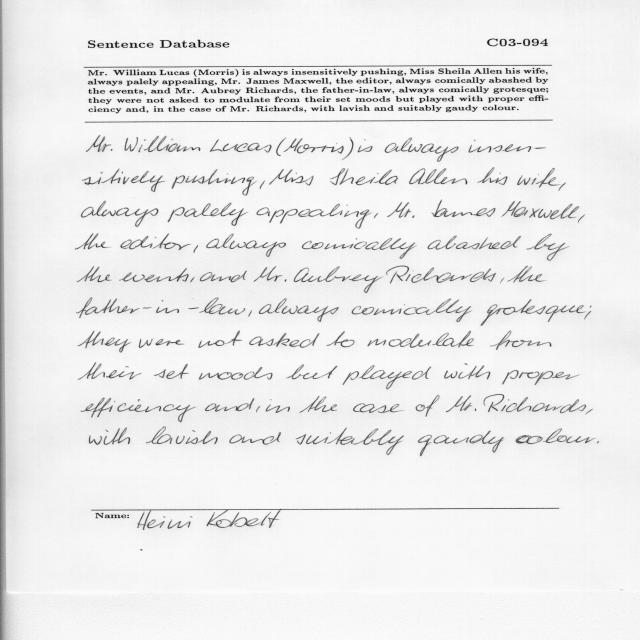word: (77, 298, 245, 318), (294, 266, 410, 293), (481, 299, 592, 326), (296, 428, 404, 455), (352, 298, 472, 322), (257, 204, 372, 229), (81, 397, 196, 422), (302, 238, 416, 259), (172, 169, 257, 196), (418, 431, 504, 457), (343, 366, 431, 390), (82, 201, 159, 227), (82, 168, 165, 192), (484, 395, 586, 414), (259, 298, 339, 322), (168, 203, 248, 226), (206, 234, 286, 257), (367, 331, 474, 348), (284, 137, 353, 160), (502, 201, 579, 219), (411, 267, 496, 283), (428, 236, 521, 250), (146, 427, 218, 444), (125, 136, 201, 152), (516, 429, 596, 444), (526, 234, 570, 261), (490, 331, 552, 350), (502, 370, 580, 385), (330, 168, 398, 185), (121, 234, 191, 250), (78, 331, 131, 352), (432, 200, 496, 217), (78, 363, 142, 380), (249, 333, 319, 348), (469, 140, 546, 153), (409, 168, 467, 185), (119, 268, 189, 282), (199, 367, 273, 380), (517, 168, 561, 188), (210, 139, 271, 153), (286, 365, 338, 380), (269, 169, 313, 186), (199, 331, 243, 348), (89, 427, 130, 445), (444, 363, 490, 379), (205, 398, 254, 412), (421, 144, 459, 162), (229, 432, 281, 445), (507, 266, 546, 283), (300, 396, 337, 413), (385, 137, 423, 153), (200, 271, 247, 283), (75, 234, 110, 250), (77, 266, 112, 282), (254, 266, 287, 282), (416, 395, 440, 417), (154, 364, 189, 379), (478, 168, 508, 185), (446, 396, 476, 413), (353, 403, 403, 413), (387, 202, 415, 218), (327, 331, 355, 347), (87, 136, 113, 152), (139, 339, 184, 348), (266, 399, 290, 413), (358, 140, 373, 153), (276, 138, 286, 156), (558, 182, 566, 191), (578, 214, 585, 223), (584, 311, 591, 320), (260, 181, 265, 189), (586, 409, 593, 414), (194, 245, 198, 253), (248, 310, 252, 317), (191, 277, 195, 283), (256, 406, 260, 412), (374, 214, 378, 219), (500, 278, 504, 283), (597, 441, 599, 443)
